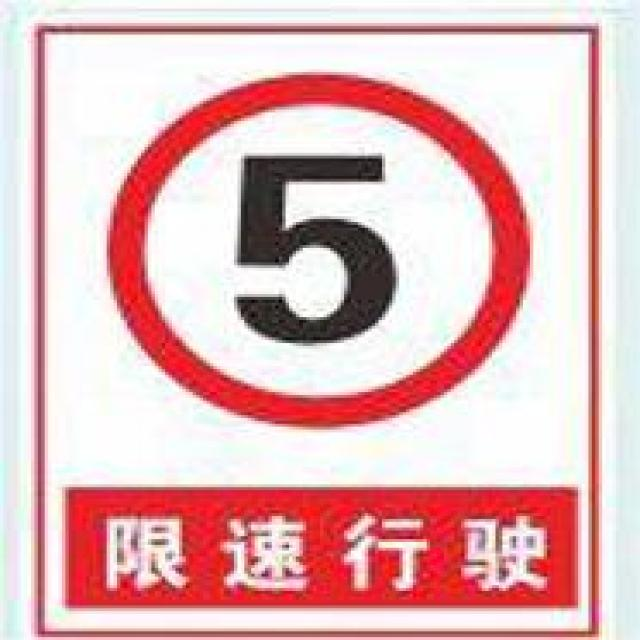speed limit 10: (111, 72, 529, 426)
